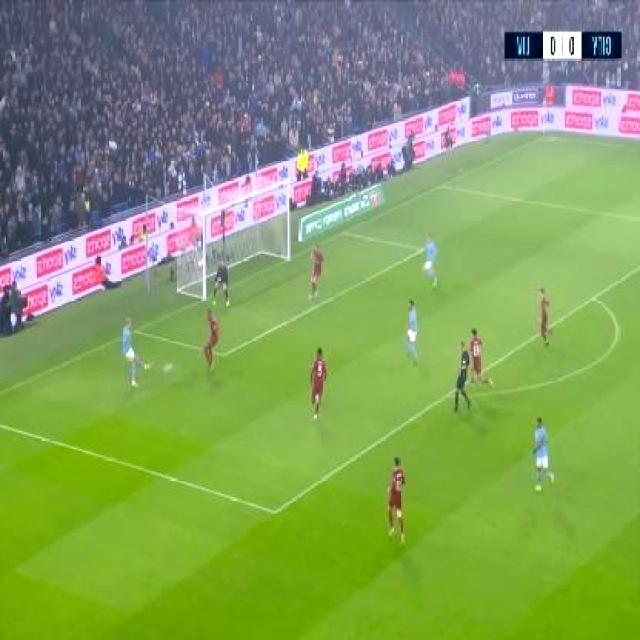bigarea_bottom_inner: (269, 499, 285, 523)
bigarea_top_outter: (437, 180, 446, 191)
corner: (541, 134, 554, 141)
smallarea_bottom_inner: (218, 344, 232, 362)
smallarea_bottom_outter: (134, 325, 143, 337)
smallarea_top_inner: (417, 243, 428, 257)
smallarea_top_outter: (342, 228, 351, 237)
top_arc_area_intersection: (590, 289, 602, 305)
